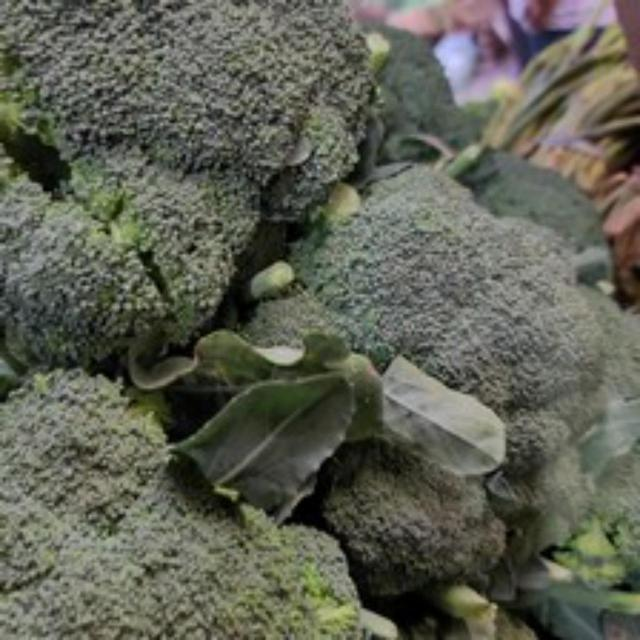broccoli: (206, 143, 636, 608)
